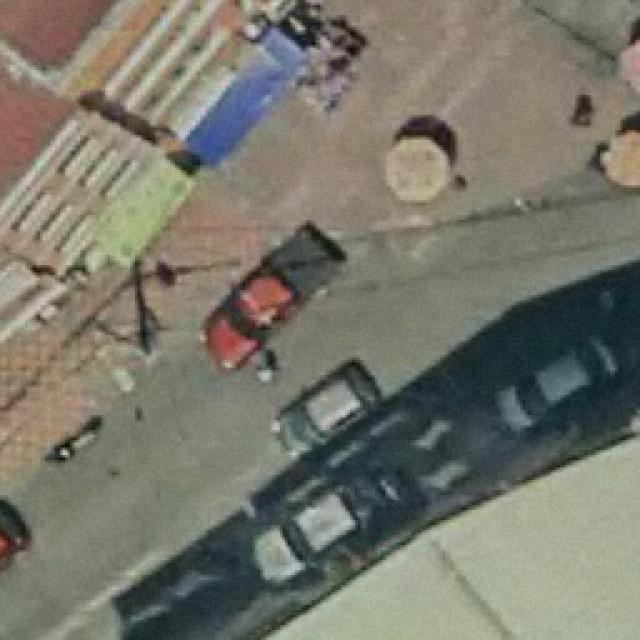vendedor_ambulante: (379, 129, 452, 209), (592, 126, 640, 190), (615, 22, 640, 98)
